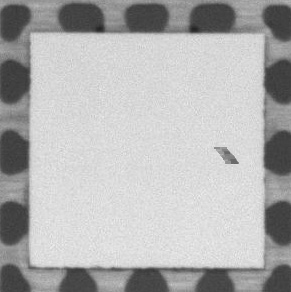DIE_INK: (211, 145, 240, 165)
